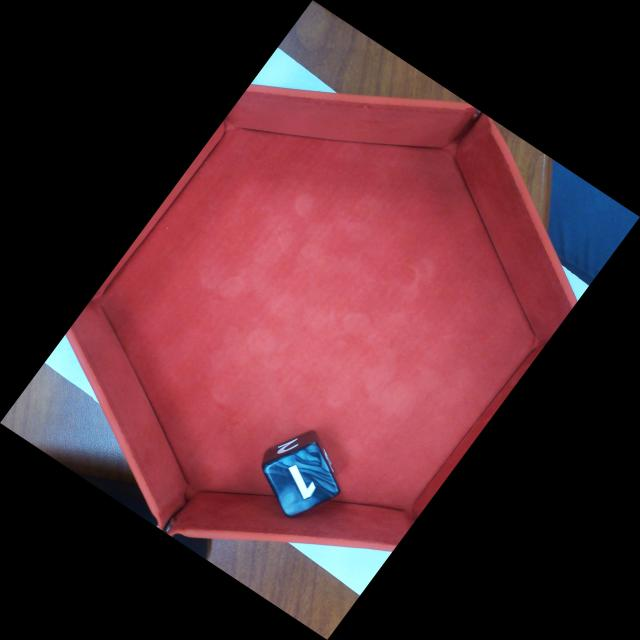dice: (261, 441, 341, 518)
